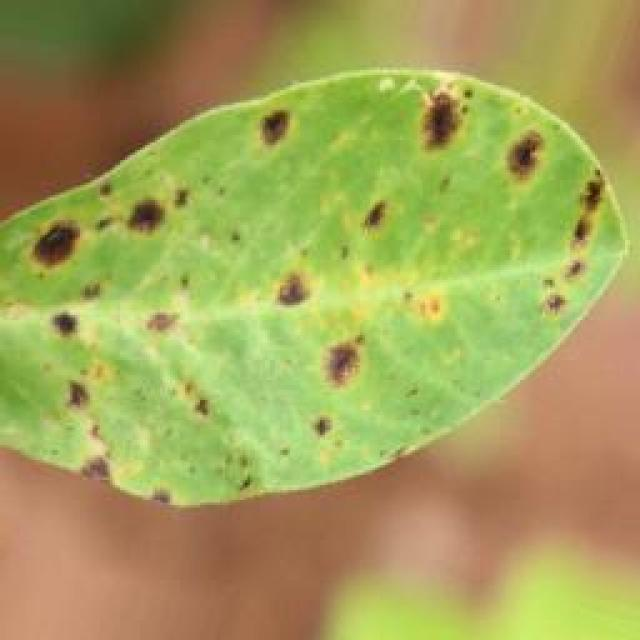Yellowish: (20, 67, 640, 498)
